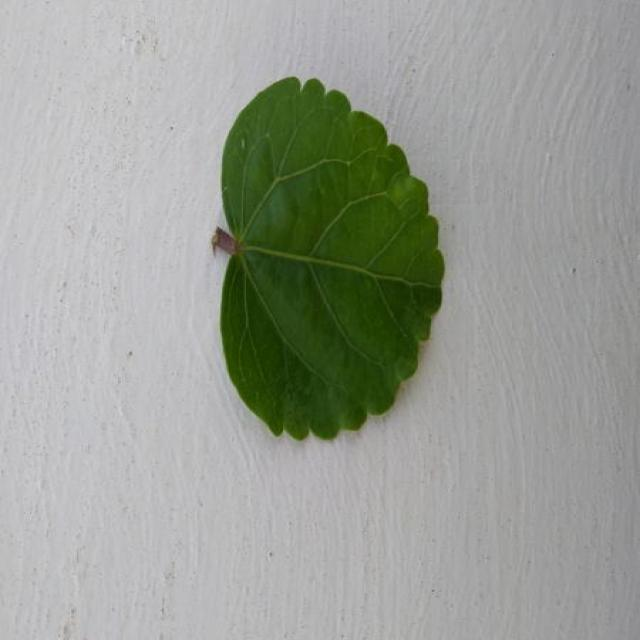leaf: (212, 75, 445, 441)
